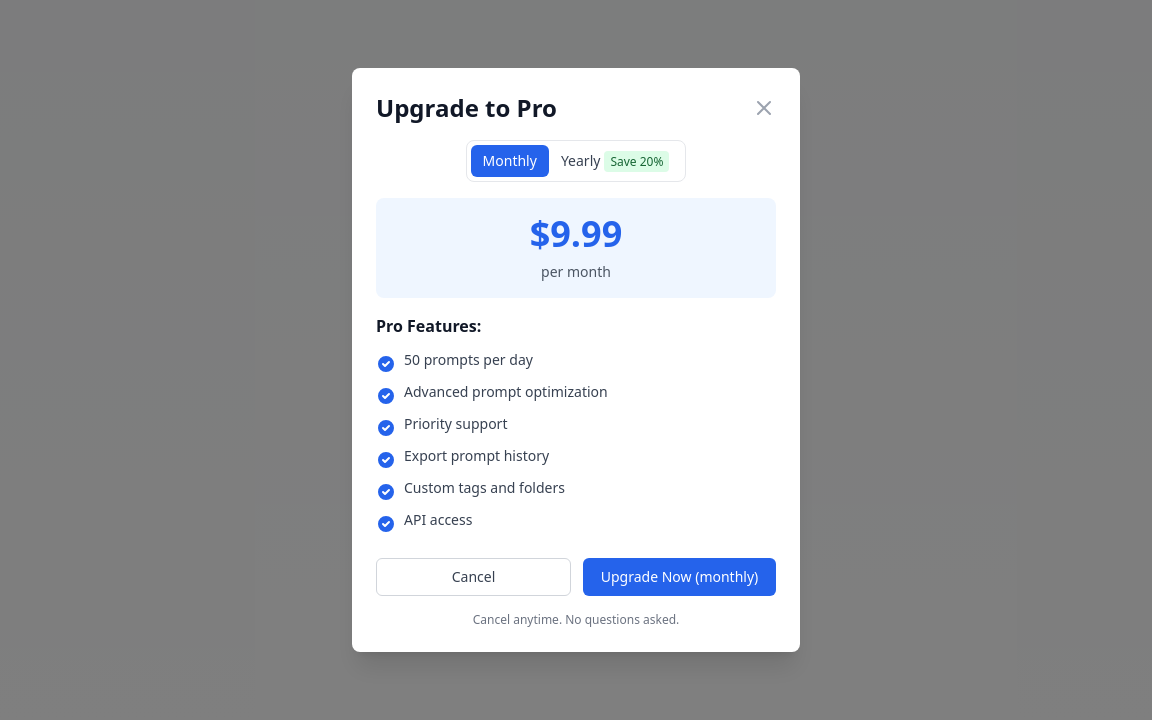
UpgradeModal › should show loading state during upgrade
Click the button "Upgrade Now (monthly)": point(680, 577) [583,558,776,596]
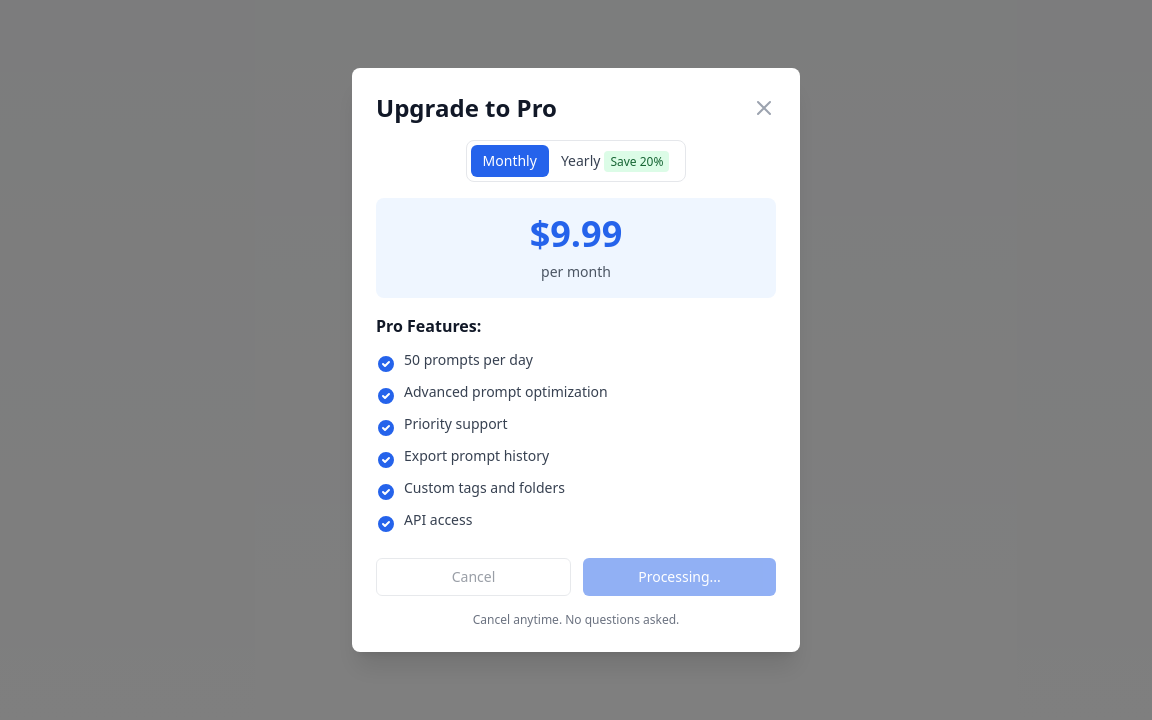
Check: the button "Processing..." is shown, box [583,558,776,596]
